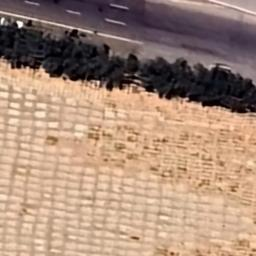sedan: (0, 14, 28, 30)
